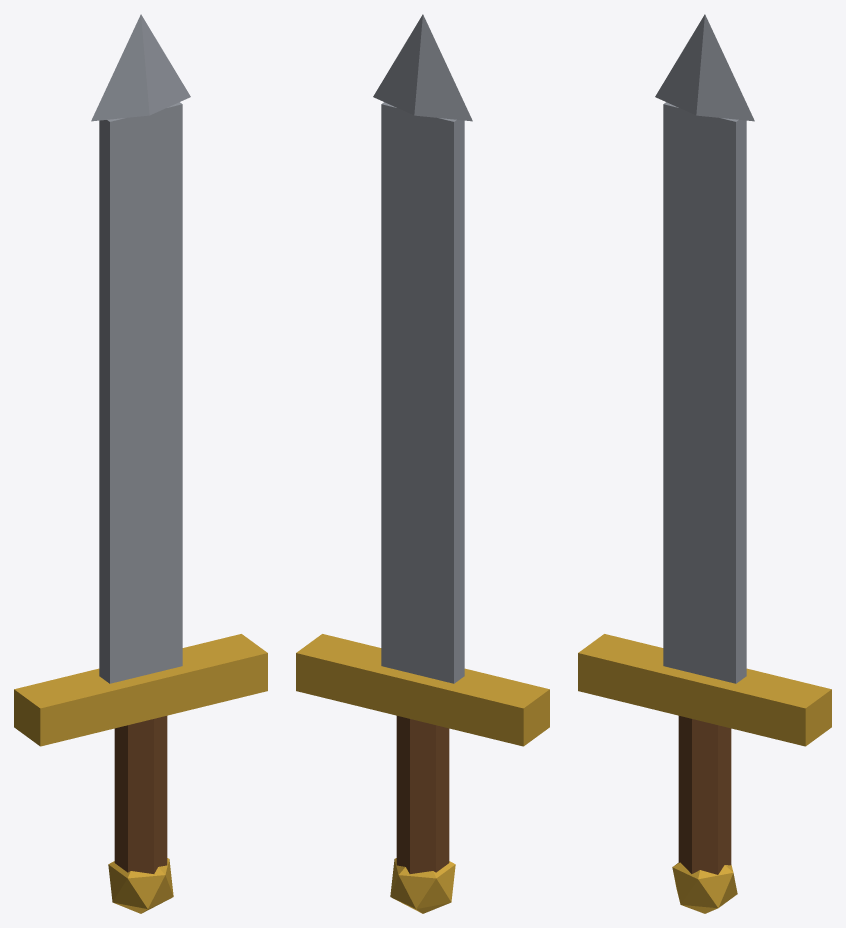
The model's file is SM_GZ_item_iron_sword.fbx.
The picture shows the model from 3 angles, left to right: view 1: azimuth 30°, elevation 25°; view 2: azimuth 150°, elevation 25°; view 3: azimuth 330°, elevation 25°; orthographic projection.
Parts seen in each view (by area): view 1: SM_GZ_item_iron_sword; view 2: SM_GZ_item_iron_sword; view 3: SM_GZ_item_iron_sword.
Part boxes in pixels (left/top/right/bottom): SM_GZ_item_iron_sword: left=14, top=14, right=267, bottom=913; SM_GZ_item_iron_sword: left=296, top=14, right=549, bottom=913; SM_GZ_item_iron_sword: left=578, top=14, right=831, bottom=913.
Size of the model in its own units: 50 by 189 by 11.91.
